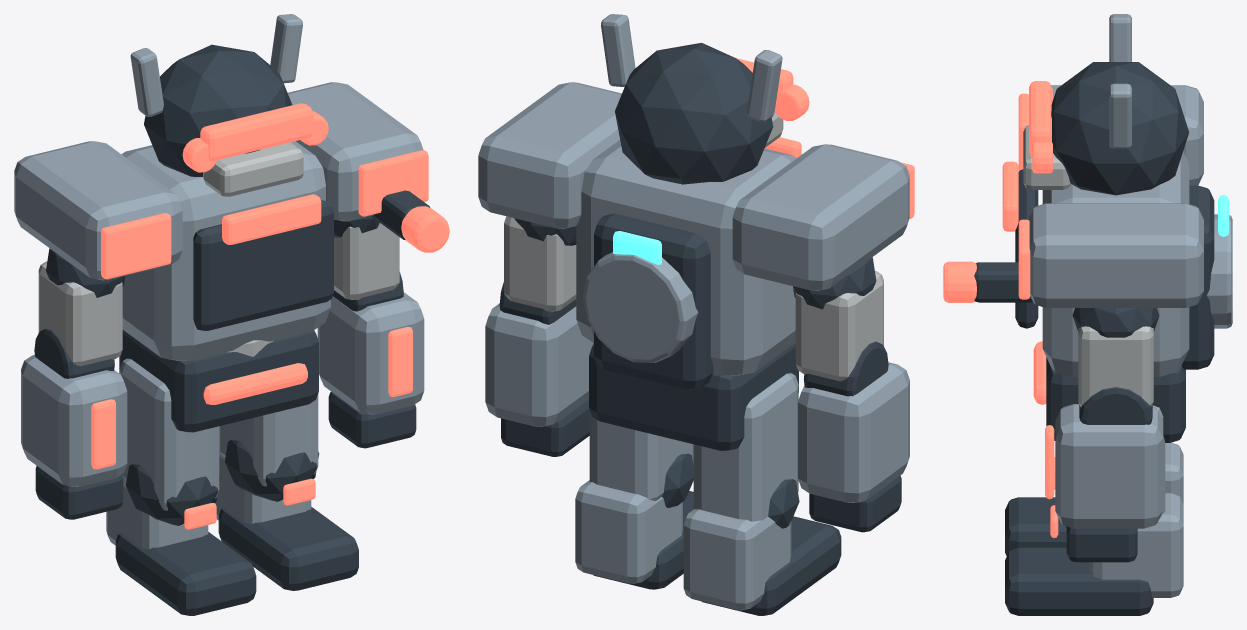
Rendered from CentinelaRobot.fbx.
3 renders of one model, left to right at view 1: azimuth 30°, elevation 25°; view 2: azimuth 150°, elevation 25°; view 3: azimuth 270°, elevation 25°, orthographic. The views are drawn at different scales.
Visible parts, largest first — view 1: CajaToracica, HombreraSegmentada, Pechera, CascoBase, AntebrazoBlindado, Pelvis, AntebrazoBlindado.001, HombreraSegmentada.001, PieTacitico, PieTacitico.001, ServoMuslo, BicepsRobot (+26 smaller); view 2: CajaToracica, HombreraSegmentada, CascoBase, HombreraSegmentada.001, AntebrazoBlindado, Pelvis, AntebrazoBlindado.001, ServoMuslo, RodamientoEspalda, BlindajePantorrilla, BlindajePantorrilla.001, BateriaDorsal (+17 smaller); view 3: HombreraSegmentada.001, CascoBase, AntebrazoBlindado.001, PieTacitico.001, CajaToracica, BicepsRobot.001, BlindajePantorrilla.001, Pelvis, BateriaDorsal, PieTacitico, GarraDedos.001, CodoHidraulico.001 (+18 smaller).
Part boxes in pixels (x1,y1,x2,y2): CajaToracica: (121,141,330,360); HombreraSegmentada: (14,141,182,280); Pechera: (193,200,333,330); CascoBase: (144,44,292,176); AntebrazoBlindado: (21,355,127,486); Pelvis: (119,330,318,432); AntebrazoBlindado.001: (317,292,424,414); HombreraSegmentada.001: (287,82,423,221); PieTacitico: (115,532,256,615); PieTacitico.001: (218,507,358,590); ServoMuslo: (119,358,219,510); BicepsRobot: (38,261,122,366); CajaToracica: (576,140,796,375); HombreraSegmentada: (732,144,909,290); CascoBase: (615,42,773,184); HombreraSegmentada.001: (478,82,621,228); AntebrazoBlindado: (798,362,909,502); Pelvis: (589,343,798,450); AntebrazoBlindado.001: (485,303,593,426); ServoMuslo: (693,373,798,521); RodamientoEspalda: (583,252,698,362); BlindajePantorrilla: (683,509,791,610); BlindajePantorrilla.001: (575,480,682,583); BateriaDorsal: (594,213,713,389); HombreraSegmentada.001: (1028,203,1203,307); CascoBase: (1051,62,1189,195); AntebrazoBlindado.001: (1055,404,1162,528); PieTacitico.001: (1005,547,1153,615); CajaToracica: (1042,151,1189,376); BicepsRobot.001: (1078,326,1153,406); BlindajePantorrilla.001: (1089,493,1183,597); Pelvis: (1046,357,1185,442); BateriaDorsal: (1182,185,1214,369); PieTacitico: (1005,497,1066,555); GarraDedos.001: (1066,526,1137,562); CodoHidraulico.001: (1079,387,1152,424).
Size of the model in its own units: 184 by 254 by 127.
